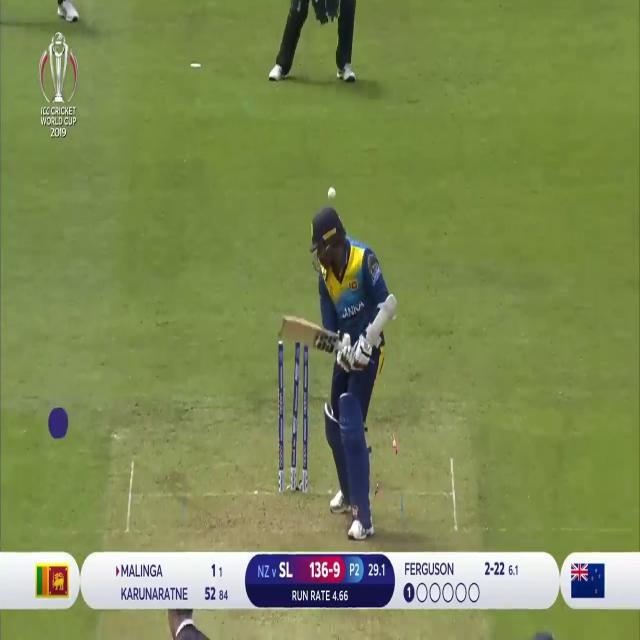ball: (326, 180, 338, 202)
